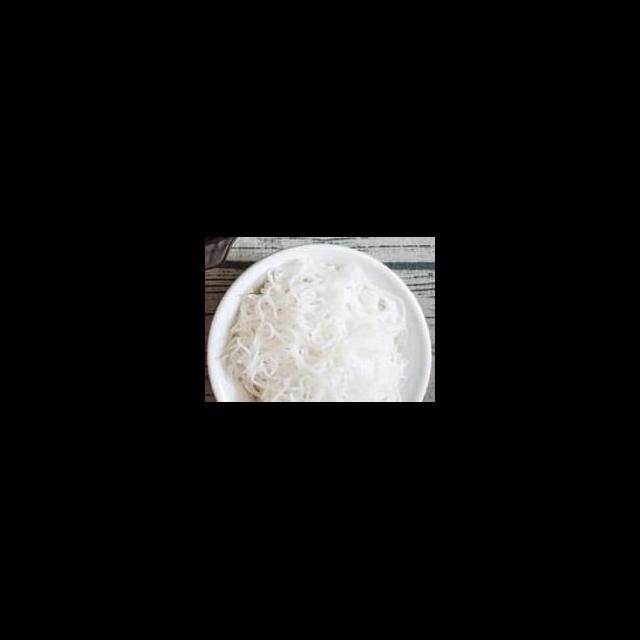bun: (215, 255, 412, 402)
